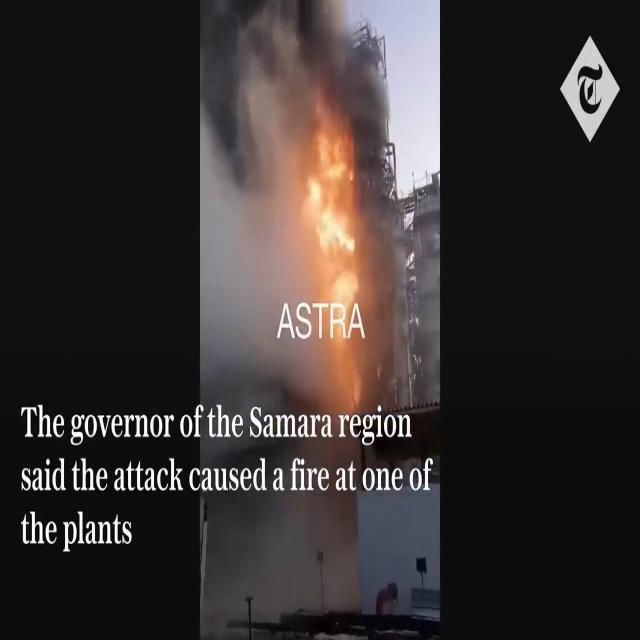Fire: (300, 113, 374, 340)
Smoke: (200, 0, 397, 354)
